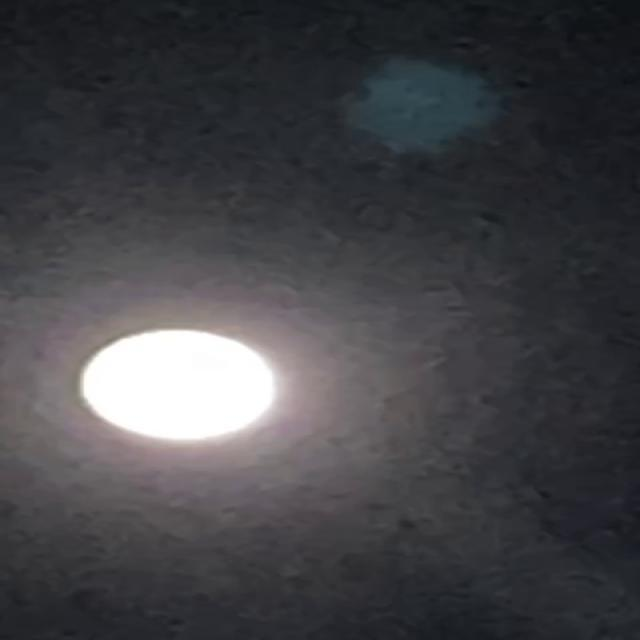moon: (60, 314, 290, 458)
